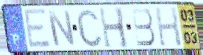B: (130, 6, 157, 48)
C: (75, 7, 104, 49)
E: (22, 8, 53, 51)
H: (98, 6, 131, 50), (153, 6, 183, 48)
N: (46, 10, 77, 48)
